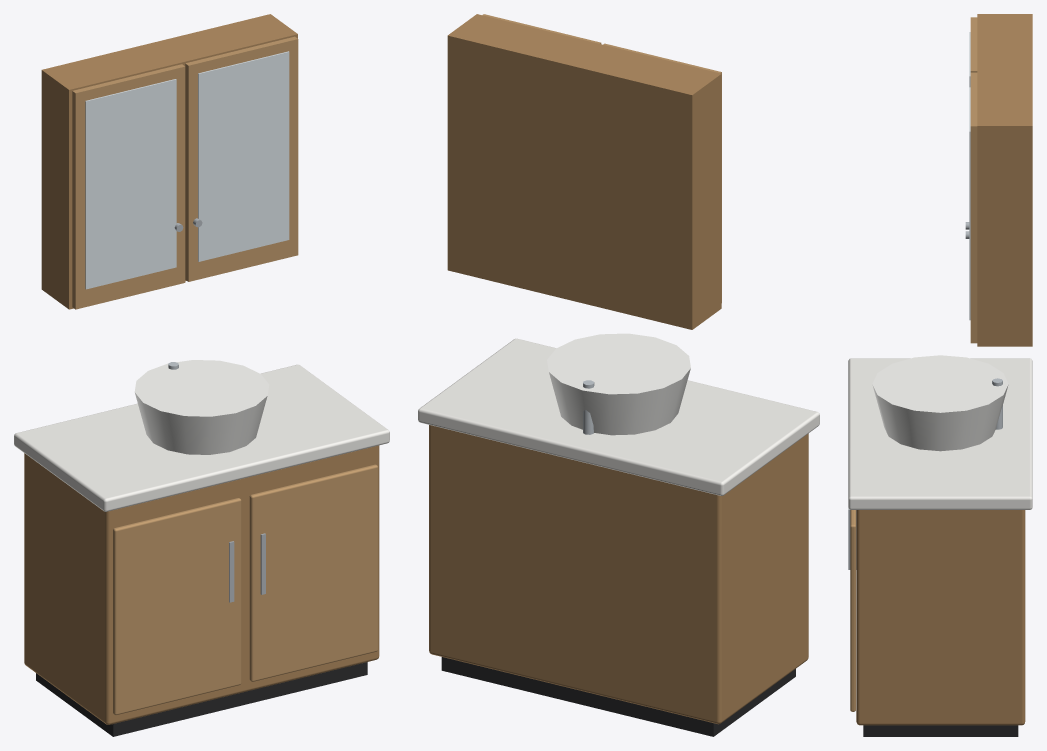
The model's file is basin-lite.glb.
3 views of the same model, side by side, from view 1: azimuth 30°, elevation 25°; view 2: azimuth 150°, elevation 25°; view 3: azimuth 270°, elevation 25° (orthographic). The views are drawn at different scales.
Parts seen in each view (by area): view 1: material-1-door, material-0-frame, material-7-mirror, material-3-top, material-4-body, material-6-base, material-2-handle; view 2: material-0-frame, material-3-top, material-4-body, material-6-base, material-1-door; view 3: material-0-frame, material-3-top, material-4-body, material-1-door, material-6-base, material-7-mirror, material-2-handle.
Boxes of the visible parts, box(x1,y1,x2,y2) form: material-1-door: box(72, 36, 377, 715); material-0-frame: box(24, 14, 379, 724); material-7-mirror: box(85, 51, 289, 289); material-3-top: box(14, 364, 389, 511); material-4-body: box(134, 360, 269, 454); material-6-base: box(36, 662, 367, 736); material-2-handle: box(174, 218, 265, 602); material-0-frame: box(429, 14, 808, 724); material-3-top: box(418, 338, 819, 495); material-4-body: box(547, 333, 690, 435); material-6-base: box(441, 657, 795, 736); material-1-door: box(482, 14, 721, 302); material-0-frame: box(856, 14, 1032, 725); material-3-top: box(848, 358, 1032, 509); material-4-body: box(872, 355, 1008, 451); material-1-door: box(850, 17, 977, 711); material-6-base: box(863, 725, 1018, 736); material-7-mirror: box(969, 32, 970, 320); material-2-handle: box(848, 222, 969, 569).
Bounding box in the file's own units: 0.9 × 1.81 × 0.5.
